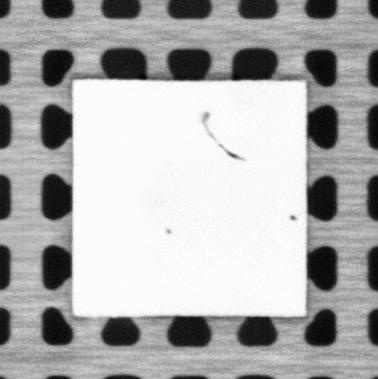DIE_INK: (199, 110, 244, 161), (288, 213, 298, 223), (164, 227, 173, 235)
